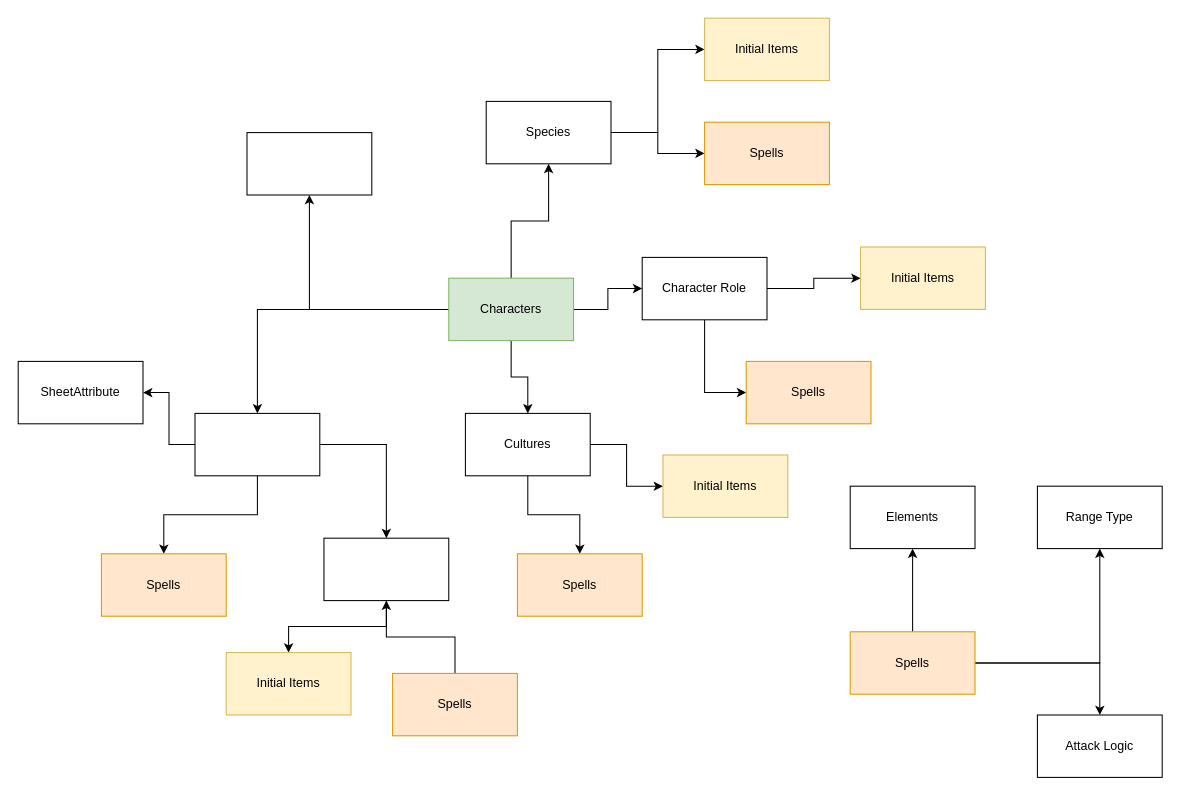
The diagram is 1180 pixels wide and 796 high, and some of its shapes have lost their labels. Each missing label, with the box of its shape:
Grimos: (323, 537, 449, 601)
Items: (194, 412, 320, 476)
User: (246, 132, 372, 195)
